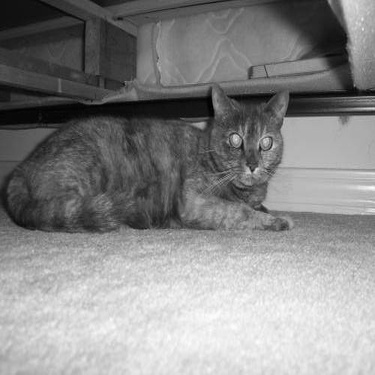cat: (1, 77, 298, 234)
